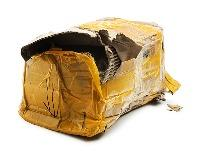damaged package: (19, 27, 127, 81)
undamaged: (13, 15, 175, 135)
